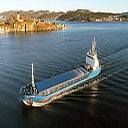Ships: (20, 32, 104, 109)
